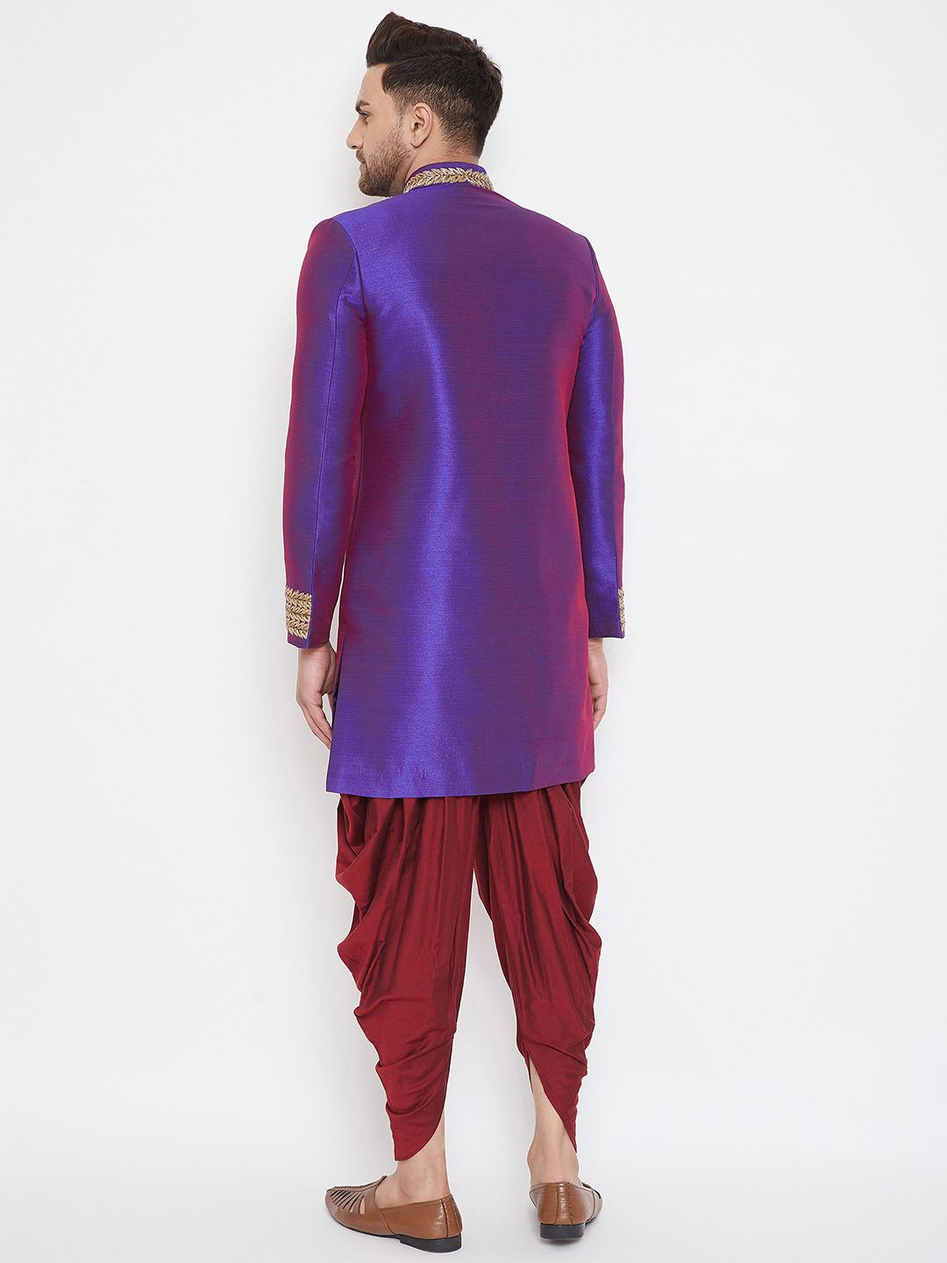Plain Sherwani: (281, 161, 625, 799)
